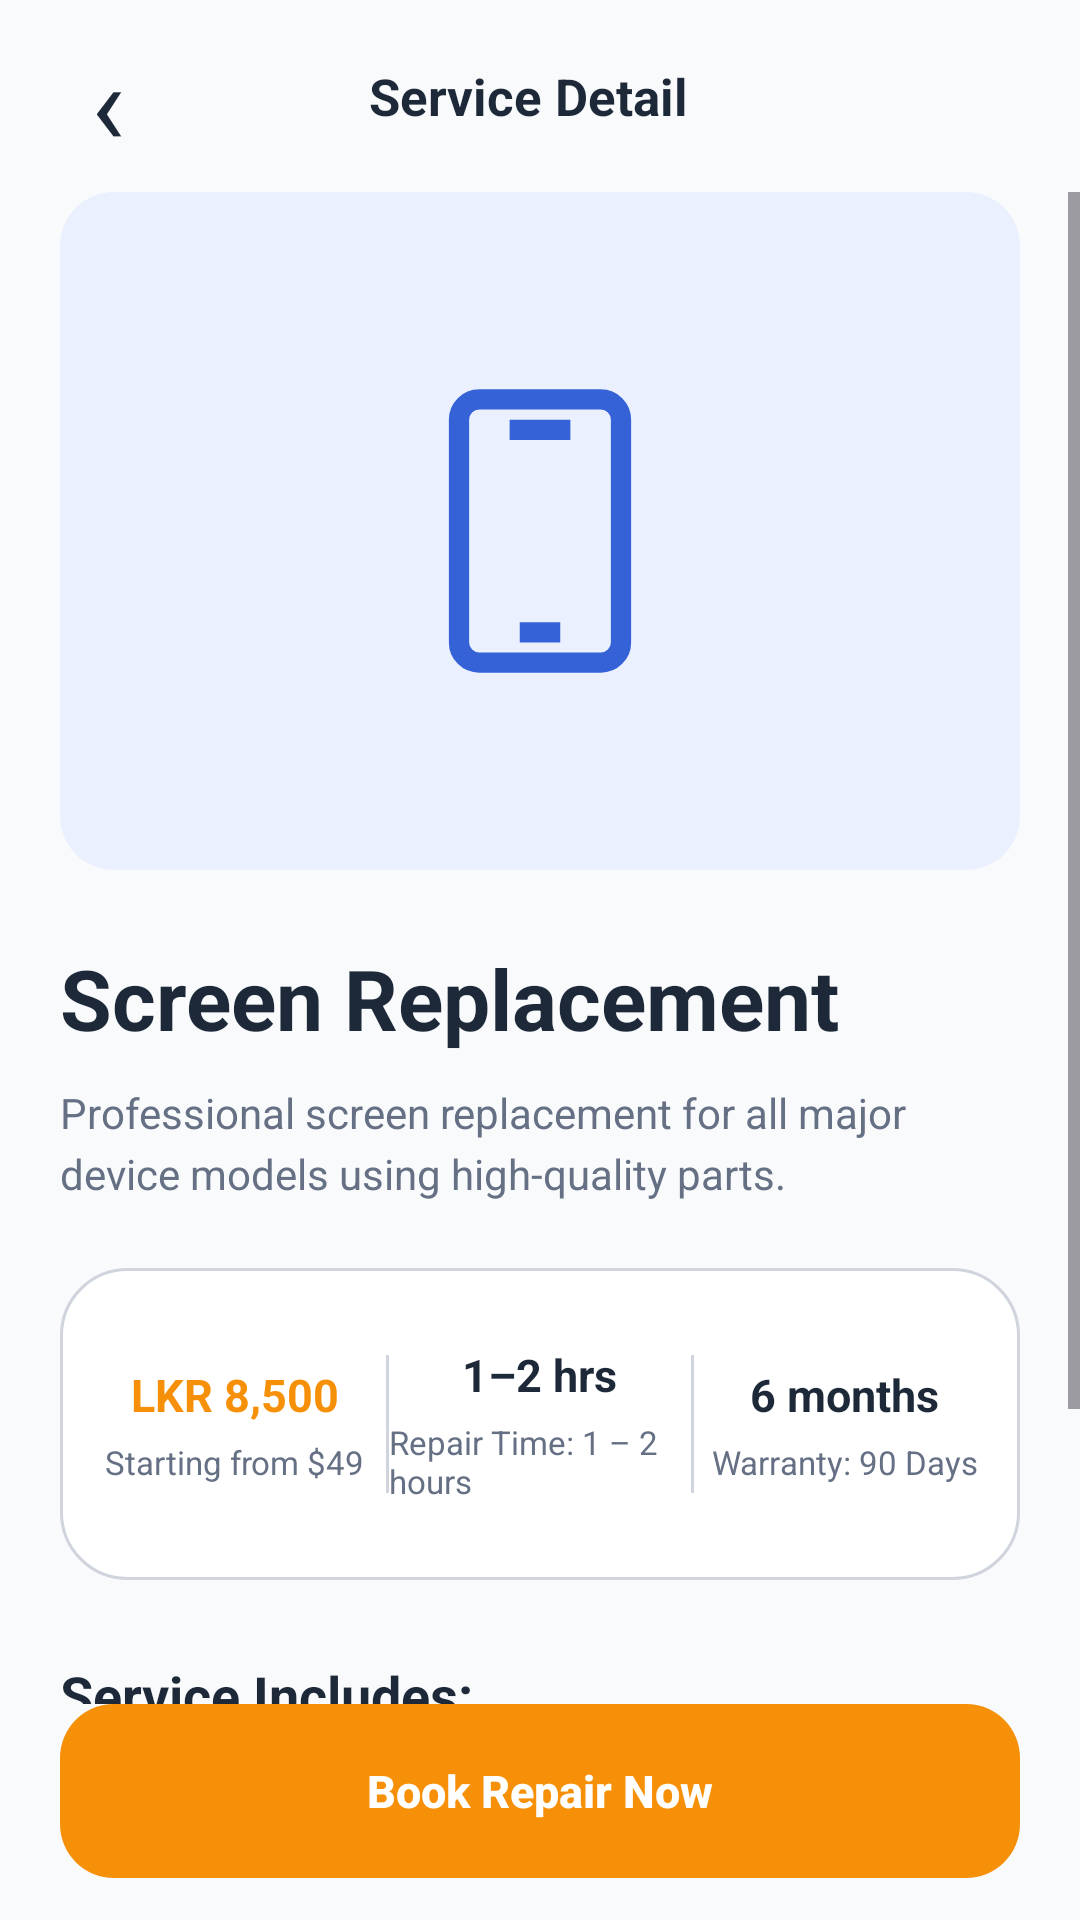

Icons on this 1080*1920 Android screen, each with its box as [x1=x1, y1=y1, x2=x2, y2=y2]:
Screen Replacement: [x1=449, y1=389, x2=631, y2=673]
